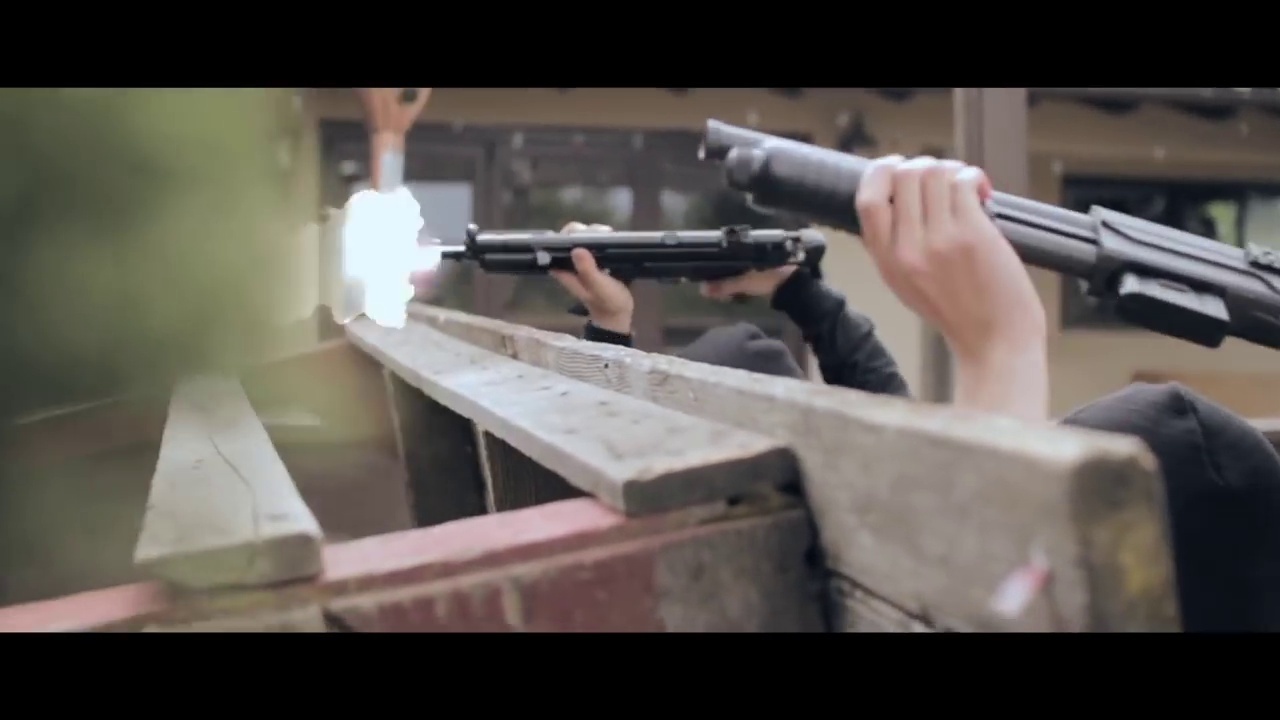gun: (687, 113, 1280, 356), (436, 204, 835, 334)
p_w_gun: (684, 104, 1280, 435), (433, 206, 912, 403)
